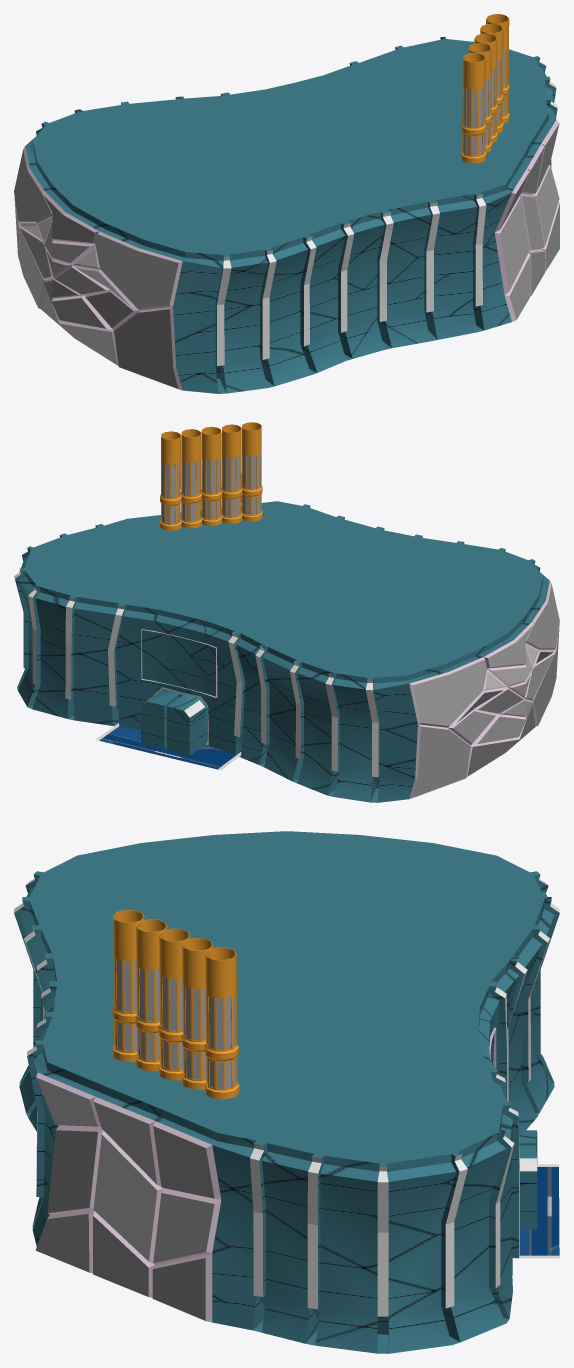
File: Set_Spaceship.fbx
3 views of the same model, one above another, from view 1: azimuth 30°, elevation 25°; view 2: azimuth 150°, elevation 25°; view 3: azimuth 270°, elevation 25° (orthographic). The views are drawn at different scales.
Parts seen in each view (by area): view 1: Set_Spaceship_Ceiling, Set_Spaceship_Walls, Set_Spaceship_Mini_Game_Glass, Set_Spaceship_Elimination_Glass, Set_Spaceship_Elimination_5, Set_Spaceship_Elimination_4, Set_Spaceship_Elimination_3, Set_Spaceship_Elimination_1, Set_Spaceship_Elimination_2; view 2: Set_Spaceship_Walls, Set_Spaceship_Ceiling, Set_Spaceship_Mini_Game_Glass, Set_Spaceship_Elimination_3, Set_Spaceship_Elimination_4, Set_Spaceship_Elimination_2, Set_Spaceship_Elimination_5, Set_Spaceship_Elimination_1, Set_Spaceship_Podium; view 3: Set_Spaceship_Ceiling, Set_Spaceship_Walls, Set_Spaceship_Elimination_Glass, Set_Spaceship_Elimination_1, Set_Spaceship_Elimination_2, Set_Spaceship_Elimination_4, Set_Spaceship_Elimination_3, Set_Spaceship_Elimination_5, Set_Spaceship_Podium.
Boxes of the visible parts, x1,y1,x2,y2 form: Set_Spaceship_Ceiling: (33, 39, 548, 254); Set_Spaceship_Walls: (14, 37, 559, 393); Set_Spaceship_Mini_Game_Glass: (14, 150, 178, 388); Set_Spaceship_Elimination_Glass: (500, 123, 559, 319); Set_Spaceship_Elimination_5: (461, 53, 486, 163); Set_Spaceship_Elimination_4: (468, 43, 492, 152); Set_Spaceship_Elimination_3: (474, 33, 497, 142); Set_Spaceship_Elimination_1: (486, 14, 509, 123); Set_Spaceship_Elimination_2: (480, 23, 503, 133); Set_Spaceship_Walls: (14, 504, 559, 802); Set_Spaceship_Ceiling: (24, 501, 542, 677); Set_Spaceship_Mini_Game_Glass: (413, 584, 559, 797); Set_Spaceship_Elimination_3: (201, 426, 222, 526); Set_Spaceship_Elimination_4: (221, 424, 242, 523); Set_Spaceship_Elimination_2: (180, 429, 201, 528); Set_Spaceship_Elimination_5: (241, 422, 262, 521); Set_Spaceship_Elimination_1: (160, 431, 181, 530); Set_Spaceship_Podium: (95, 723, 241, 770); Set_Spaceship_Ceiling: (29, 831, 544, 1163); Set_Spaceship_Walls: (14, 871, 559, 1353); Set_Spaceship_Elimination_Glass: (35, 1077, 214, 1320); Set_Spaceship_Elimination_1: (204, 947, 239, 1099); Set_Spaceship_Elimination_2: (181, 938, 213, 1089); Set_Spaceship_Elimination_4: (135, 919, 167, 1071); Set_Spaceship_Elimination_3: (158, 928, 190, 1080); Set_Spaceship_Elimination_5: (112, 910, 144, 1061); Set_Spaceship_Podium: (513, 1164, 559, 1258).
Bounding box in the file's own units: 57.21 × 25.14 × 37.37.
6 materials, 2 textured.
